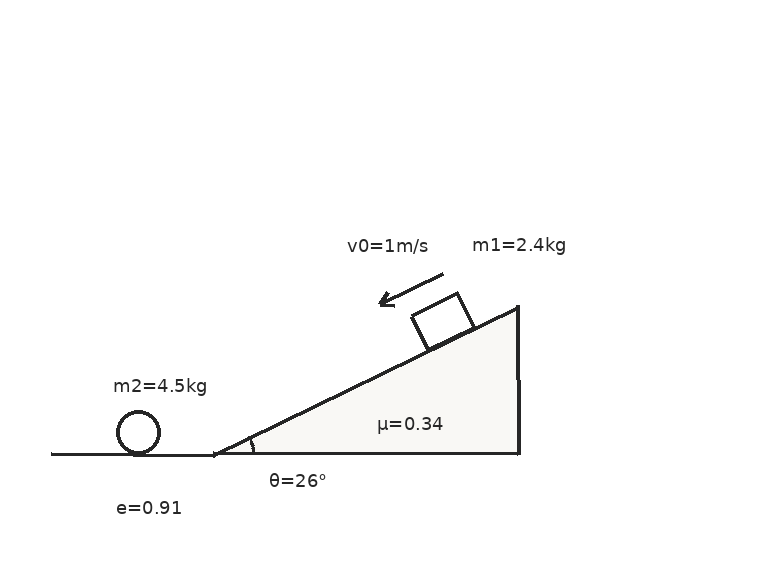ball: (114, 408, 162, 456)
block: (409, 291, 475, 351)
ramp: (211, 303, 520, 456)
